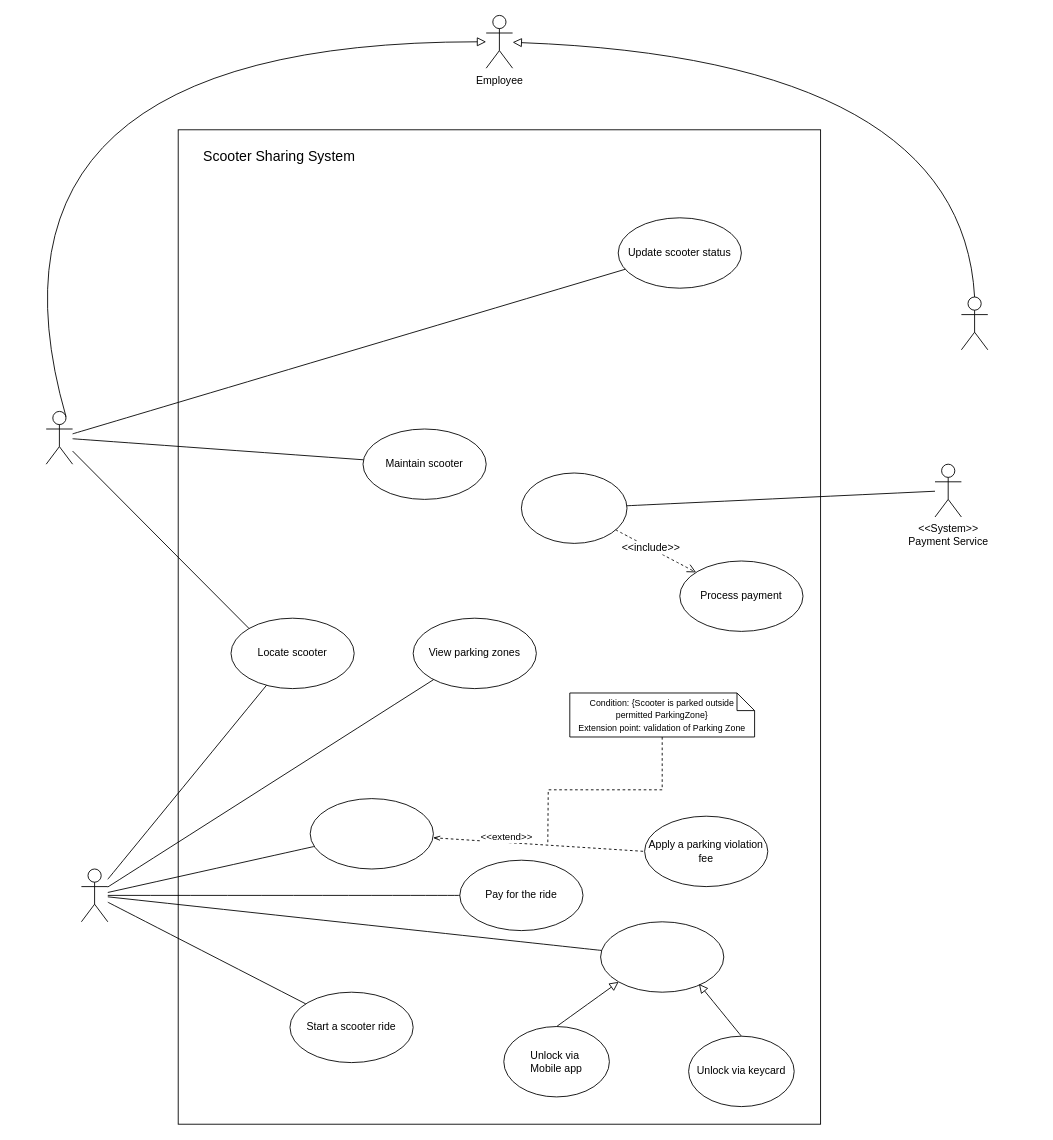
Image size: 1053x1140. Some labels were removed from this diagram. Here are the shapes that lost their labels. From the top down, the centre of each, then its label:
(x=974, y=323): Human Resource Manager
(x=59, y=437): Scooter Technician
(x=574, y=507): Generate invoice
(x=371, y=833): End a scooter ride
(x=94, y=895): Rider
(x=662, y=956): Unlock scooter
